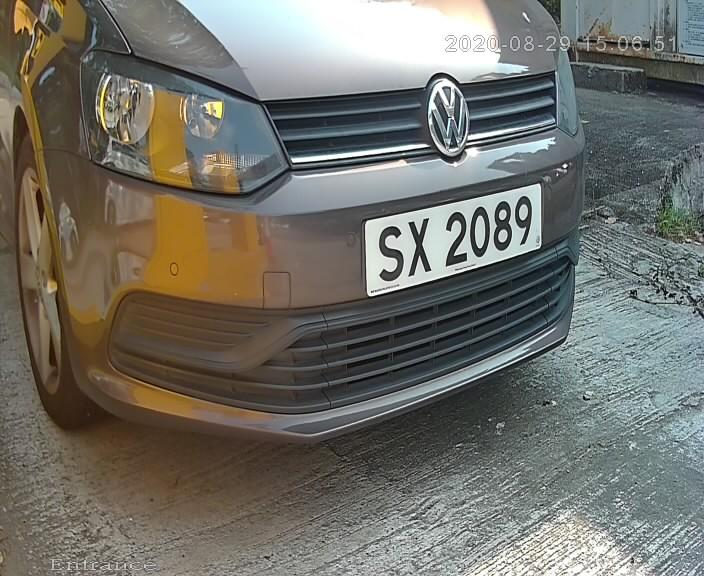License Plate: (334, 171, 558, 314)
